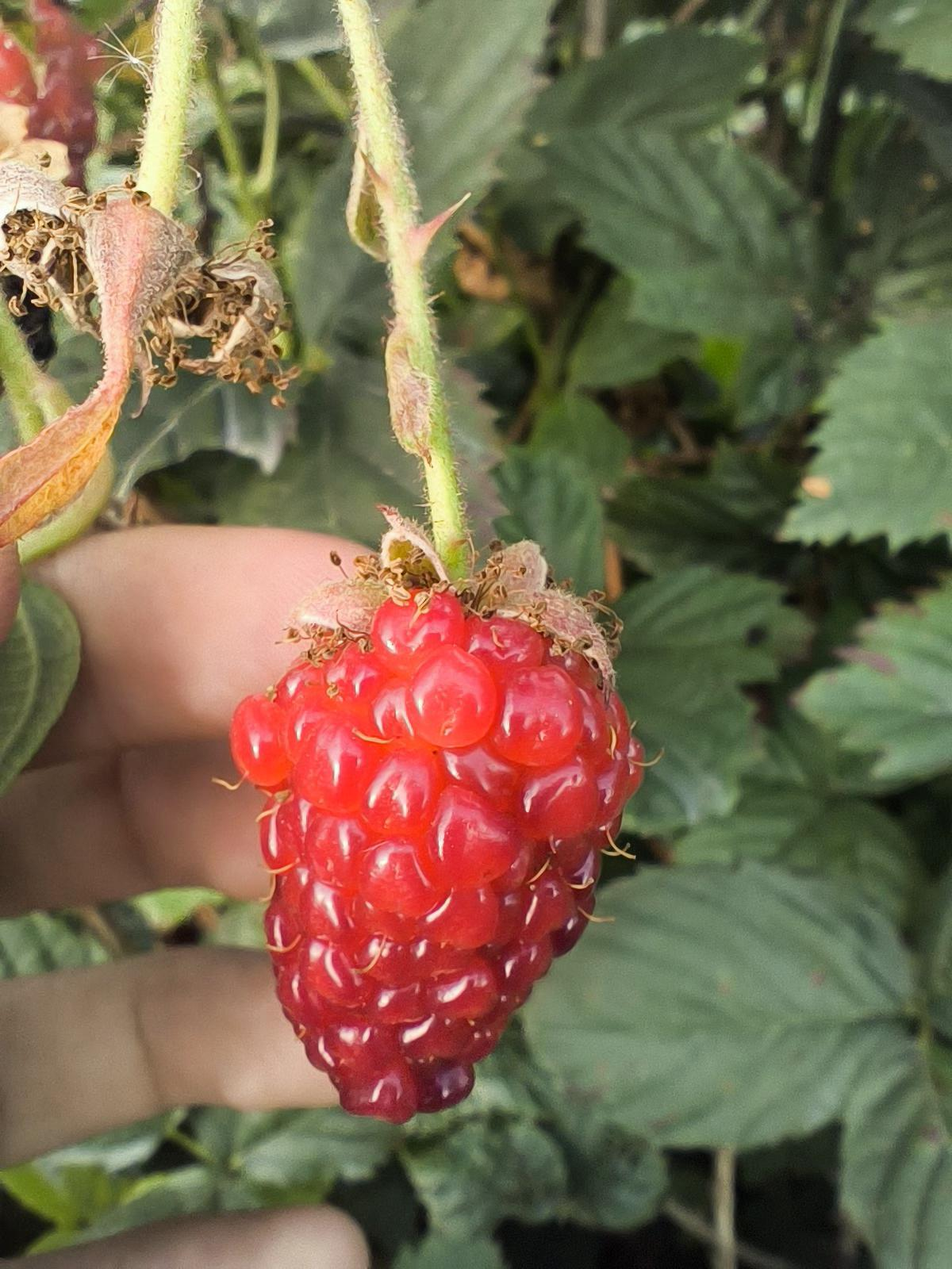naranja: (254, 611, 627, 1125)
